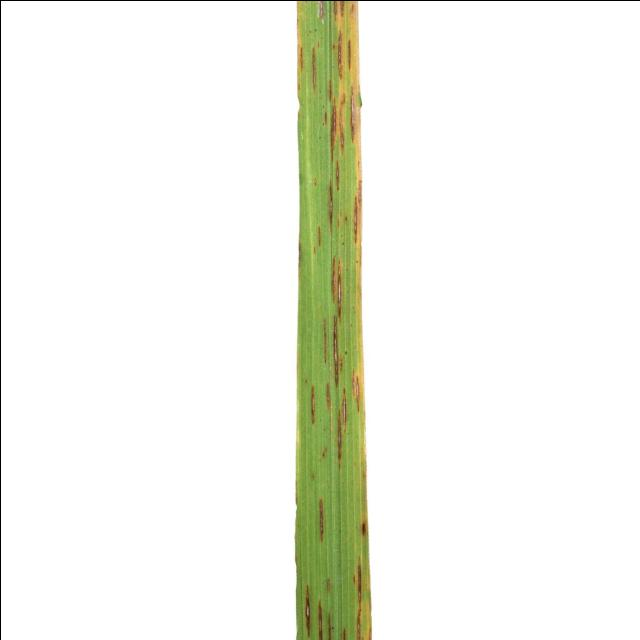Narrow brown: (198, 0, 416, 640)
